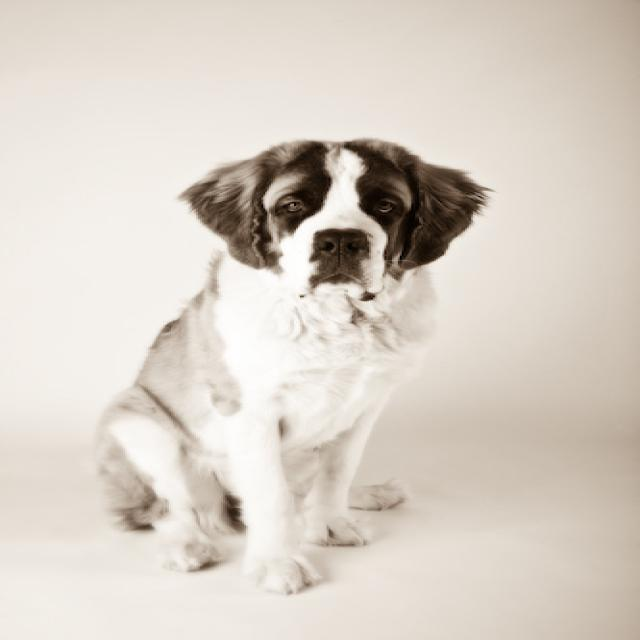dog: (184, 138, 469, 297)
